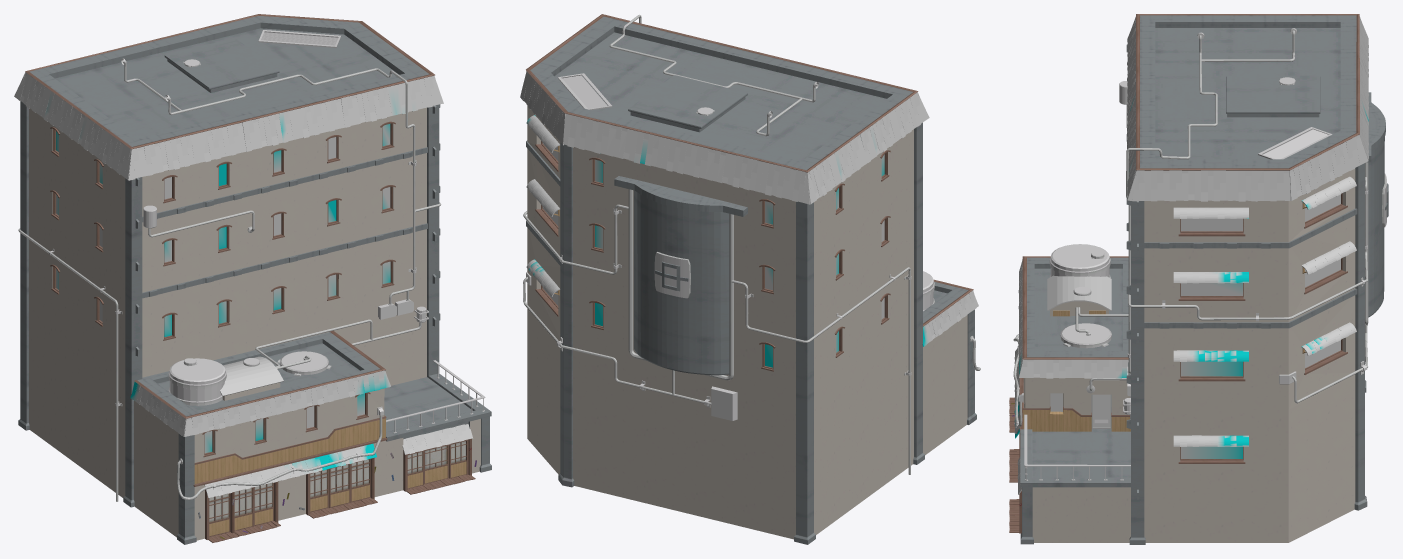
Rendered from SM_ENV_KNVLLG_AreaD_Building_A.fbx.
3 renders of one model, left to right at view 1: azimuth 30°, elevation 25°; view 2: azimuth 150°, elevation 25°; view 3: azimuth 270°, elevation 25°, orthographic. The views are drawn at different scales.
Visible parts, largest first — view 1: SM_ENV_KNVLLG_AreaD_Building_A.mo; view 2: SM_ENV_KNVLLG_AreaD_Building_A.mo; view 3: SM_ENV_KNVLLG_AreaD_Building_A.mo.
Boxes of the visible parts, box(x1,y1,x2,y2) form: SM_ENV_KNVLLG_AreaD_Building_A.mo: box(14, 14, 491, 544); SM_ENV_KNVLLG_AreaD_Building_A.mo: box(520, 14, 980, 544); SM_ENV_KNVLLG_AreaD_Building_A.mo: box(1009, 14, 1388, 544).
Size of the model in its own units: 5369 by 6098 by 5266.
